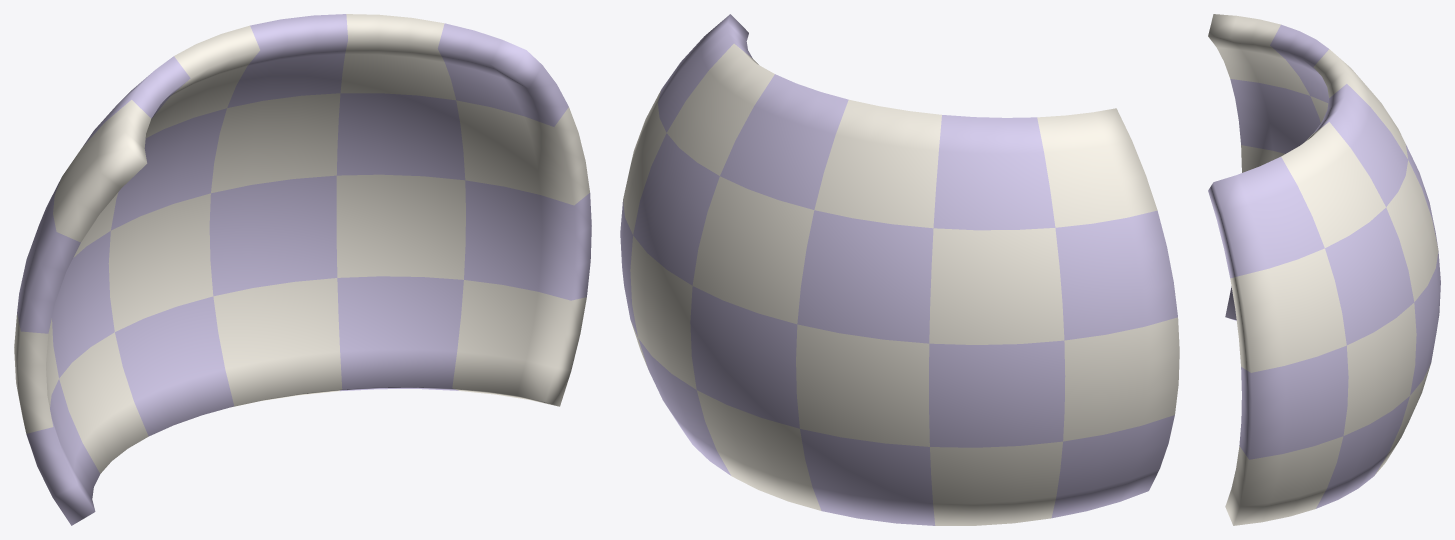
Rendered from Robe_Hood.fbx.
The picture shows the model from 3 angles, left to right: view 1: azimuth 30°, elevation 25°; view 2: azimuth 150°, elevation 25°; view 3: azimuth 270°, elevation 25°; orthographic projection. The views are drawn at different scales.
Parts seen in each view (by area): view 1: Robe_Hood; view 2: Robe_Hood; view 3: Robe_Hood.
Boxes of the visible parts, bbox=[...] form: Robe_Hood: bbox=[14, 14, 591, 525]; Robe_Hood: bbox=[620, 14, 1179, 525]; Robe_Hood: bbox=[1208, 14, 1440, 525].
Bounding box in the file's own units: 0.7107 × 0.4786 × 0.2891.
